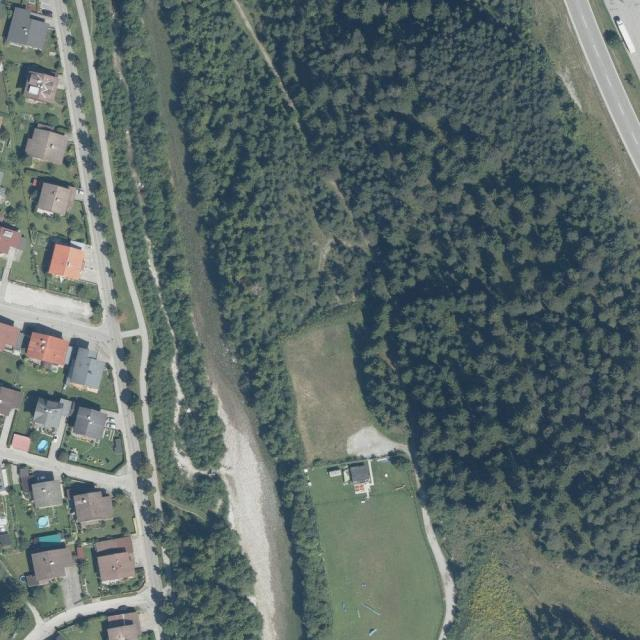building: (21, 122, 73, 169), (22, 328, 75, 374), (93, 535, 139, 586), (64, 346, 107, 395), (28, 544, 77, 587), (6, 7, 51, 53), (30, 179, 78, 217), (32, 395, 73, 436), (48, 242, 88, 283), (72, 490, 115, 528), (71, 405, 110, 444), (23, 71, 60, 104), (31, 478, 66, 510), (347, 462, 369, 496), (0, 226, 23, 254), (9, 433, 32, 452), (342, 466, 350, 483), (328, 469, 341, 479)
dryland: (3, 280, 95, 323)
greenland: (305, 452, 449, 640), (279, 321, 377, 465), (0, 352, 123, 429), (80, 486, 151, 561), (44, 260, 116, 326), (0, 88, 74, 146), (58, 418, 132, 475), (3, 202, 88, 247), (0, 44, 65, 92), (9, 226, 58, 287), (0, 564, 34, 640), (0, 150, 39, 212), (24, 156, 80, 194), (26, 581, 67, 621), (97, 566, 147, 597), (74, 551, 103, 599), (54, 615, 108, 639), (84, 177, 108, 219), (4, 551, 30, 580), (75, 126, 99, 157), (0, 127, 26, 155), (0, 72, 15, 115), (41, 26, 58, 53), (92, 218, 113, 239), (83, 152, 101, 176), (98, 240, 118, 259)
metalled_road: (68, 0, 149, 345), (70, 0, 149, 343), (25, 391, 75, 452), (87, 211, 116, 313), (129, 514, 162, 591), (89, 314, 129, 366), (140, 395, 156, 467), (117, 403, 136, 450), (140, 336, 149, 407), (149, 469, 160, 509), (121, 328, 142, 338), (109, 304, 118, 314), (143, 369, 148, 379)
